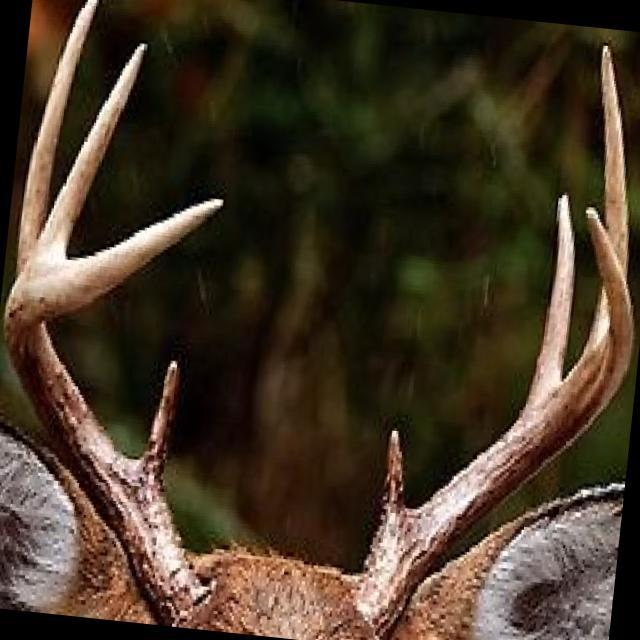L-F: (349, 205, 636, 640)
L-G1: (380, 425, 405, 525)
L-G2: (527, 189, 576, 401)
R-F: (4, 198, 224, 625)
R-G1: (137, 357, 179, 491)
R-G3: (20, 38, 147, 273)
